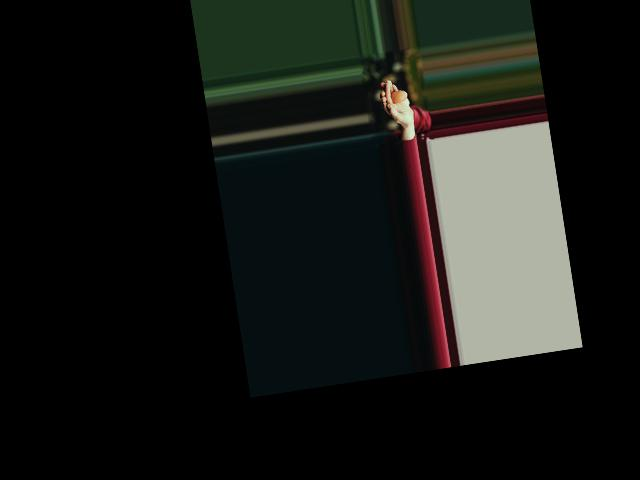egg: (390, 89, 408, 104)
